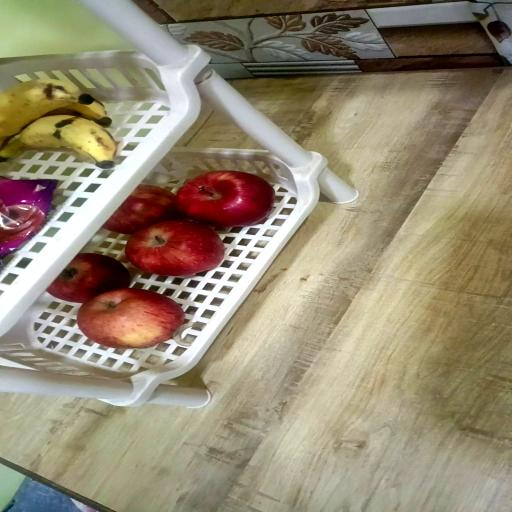Apple: (76, 289, 184, 349), (176, 172, 276, 230), (128, 222, 227, 278), (46, 254, 129, 303), (102, 187, 178, 236)
Choco Pie: (0, 179, 59, 262)
